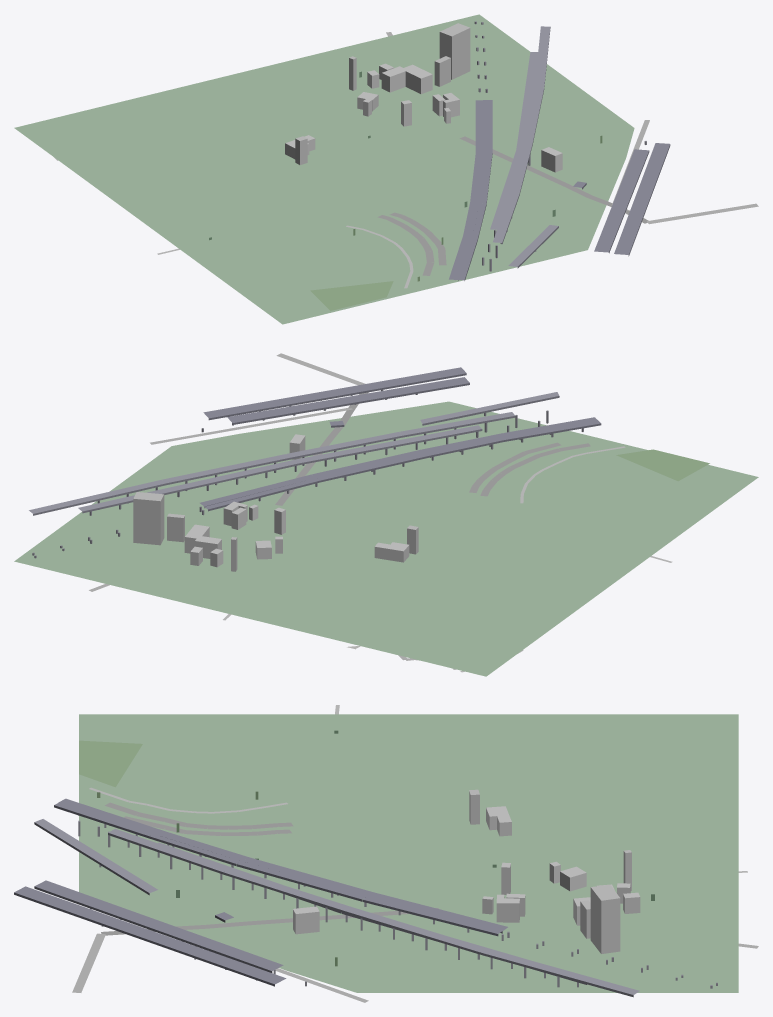
The picture shows the model from 3 angles, top to bottom: view 1: azimuth 30°, elevation 25°; view 2: azimuth 150°, elevation 25°; view 3: azimuth 270°, elevation 25°; orthographic projection. The views are drawn at different scales.
Size of the model in its own units: 552 by 49.51 by 564.
